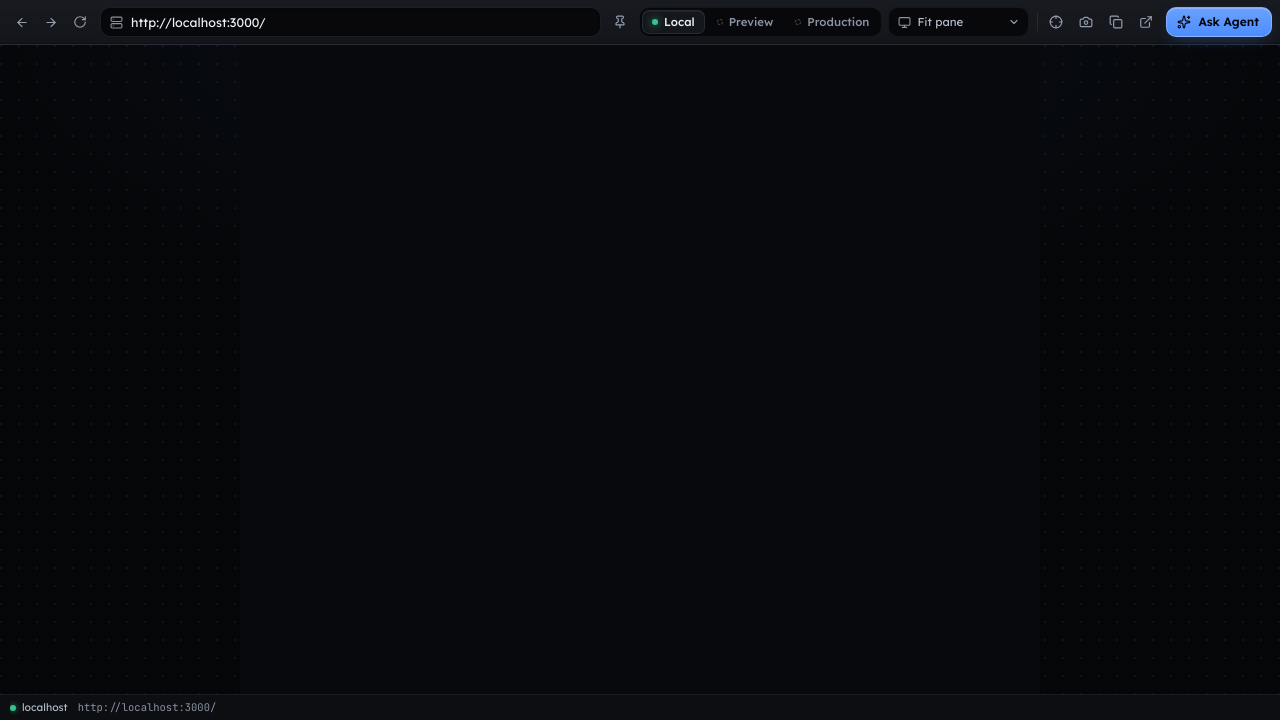
BrowserPane address editing › polls native status after attach so completed navigation replaces the loading state
Click the button named "Reload" at x=80, y=22, box [66, 8, 94, 36]
Wait 751 ms
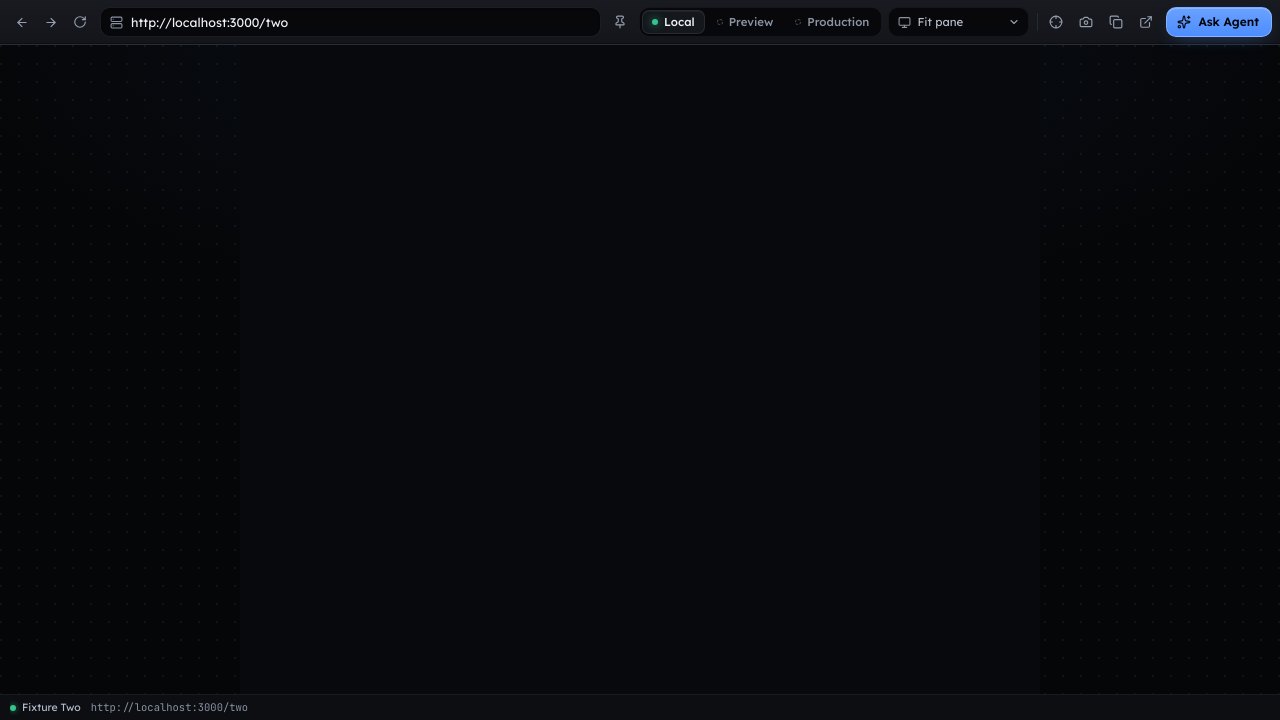
Check: the text "Fixture Two" is shown, box [10, 700, 81, 715]
